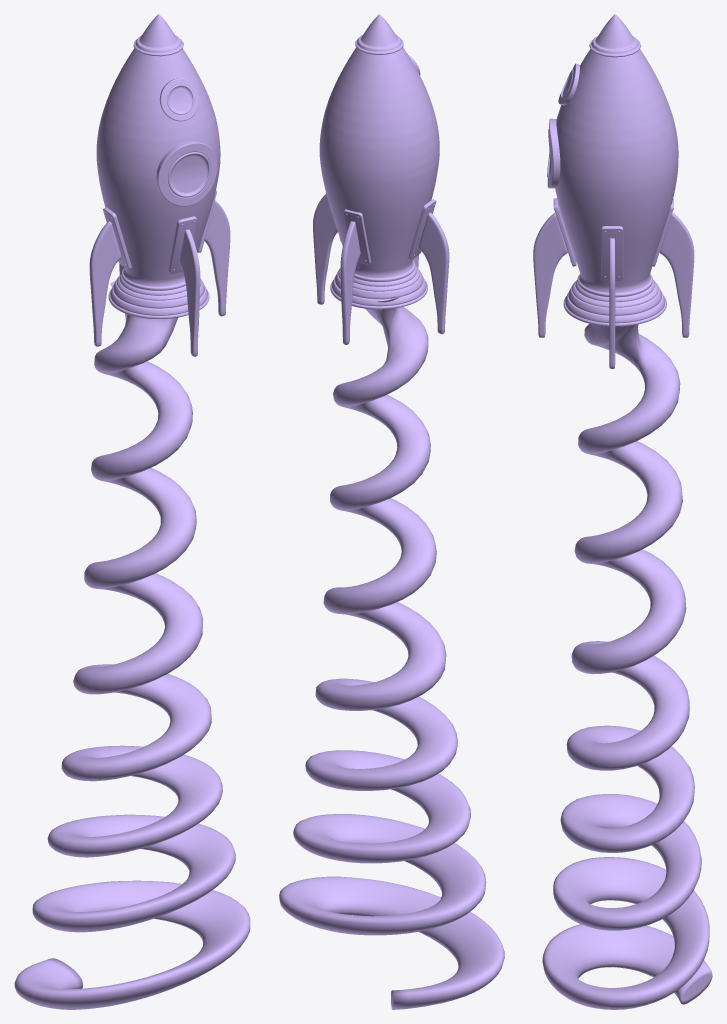
Rendered from rocket_2.gltf.
3 views of the same model, side by side, from view 1: azimuth 30°, elevation 25°; view 2: azimuth 150°, elevation 25°; view 3: azimuth 270°, elevation 25° (orthographic). The views are drawn at different scales.
Visible parts, largest first — view 1: Retopo_Sphere013.013; view 2: Retopo_Sphere013.013; view 3: Retopo_Sphere013.013.
Part boxes in pixels (x1,y1,x2,y2): Retopo_Sphere013.013: (14,14,250,1009); Retopo_Sphere013.013: (279,14,504,1009); Retopo_Sphere013.013: (533,14,712,1009).
Size of the model in its own units: 309 by 1336 by 214.
8 materials, 8 textured.
